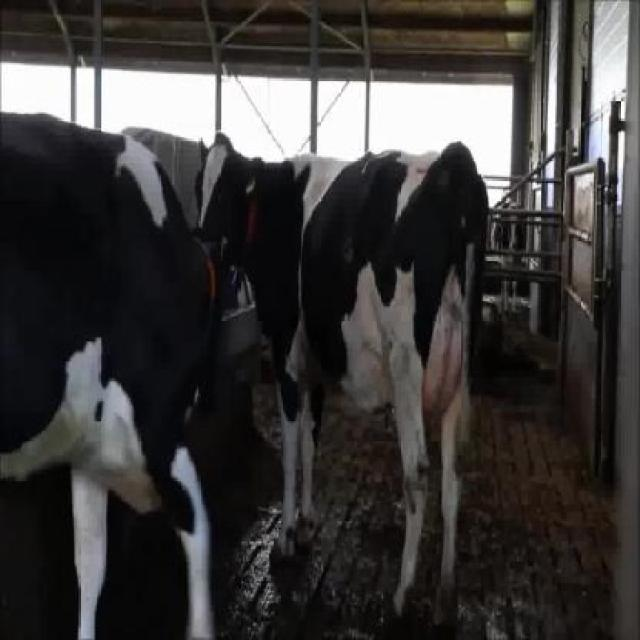Cow: (192, 128, 490, 623), (2, 111, 230, 638)
